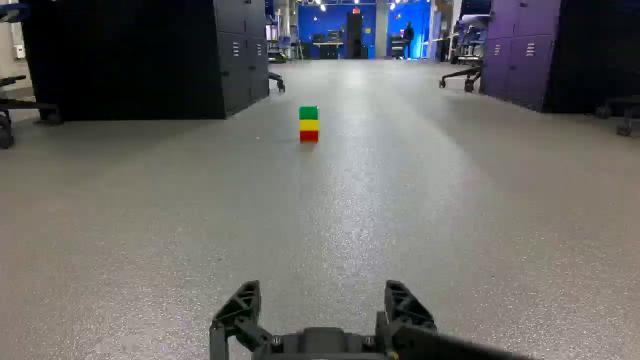lego: (300, 106, 318, 142)
